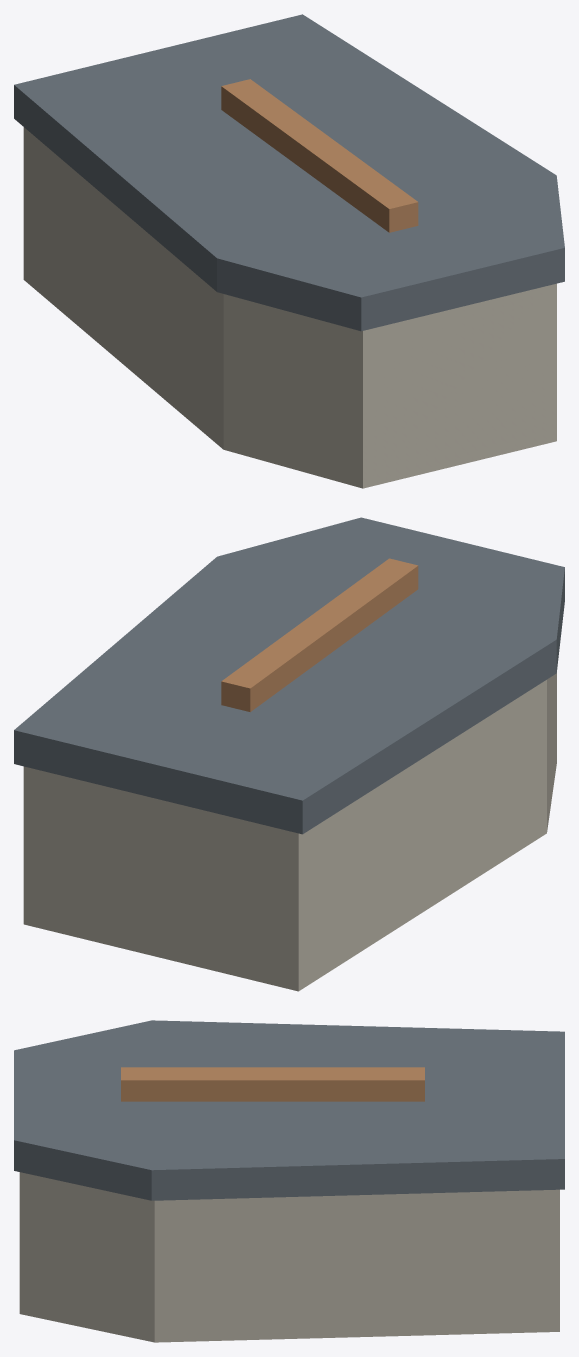
File: SM_AEON_Sarcophagus.glb
3 renders of one model, top to bottom at view 1: azimuth 30°, elevation 25°; view 2: azimuth 150°, elevation 25°; view 3: azimuth 270°, elevation 25°, orthographic. The views are drawn at different scales.
Visible parts, largest first — view 1: SM_AEON_Sarcophagus; view 2: SM_AEON_Sarcophagus; view 3: SM_AEON_Sarcophagus.
Boxes of the visible parts, bbox=[...] form: SM_AEON_Sarcophagus: bbox=[14, 14, 564, 488]; SM_AEON_Sarcophagus: bbox=[14, 517, 564, 991]; SM_AEON_Sarcophagus: bbox=[14, 1020, 564, 1342].
Size of the model in its own units: 2.1 by 1.29 by 3.26.
